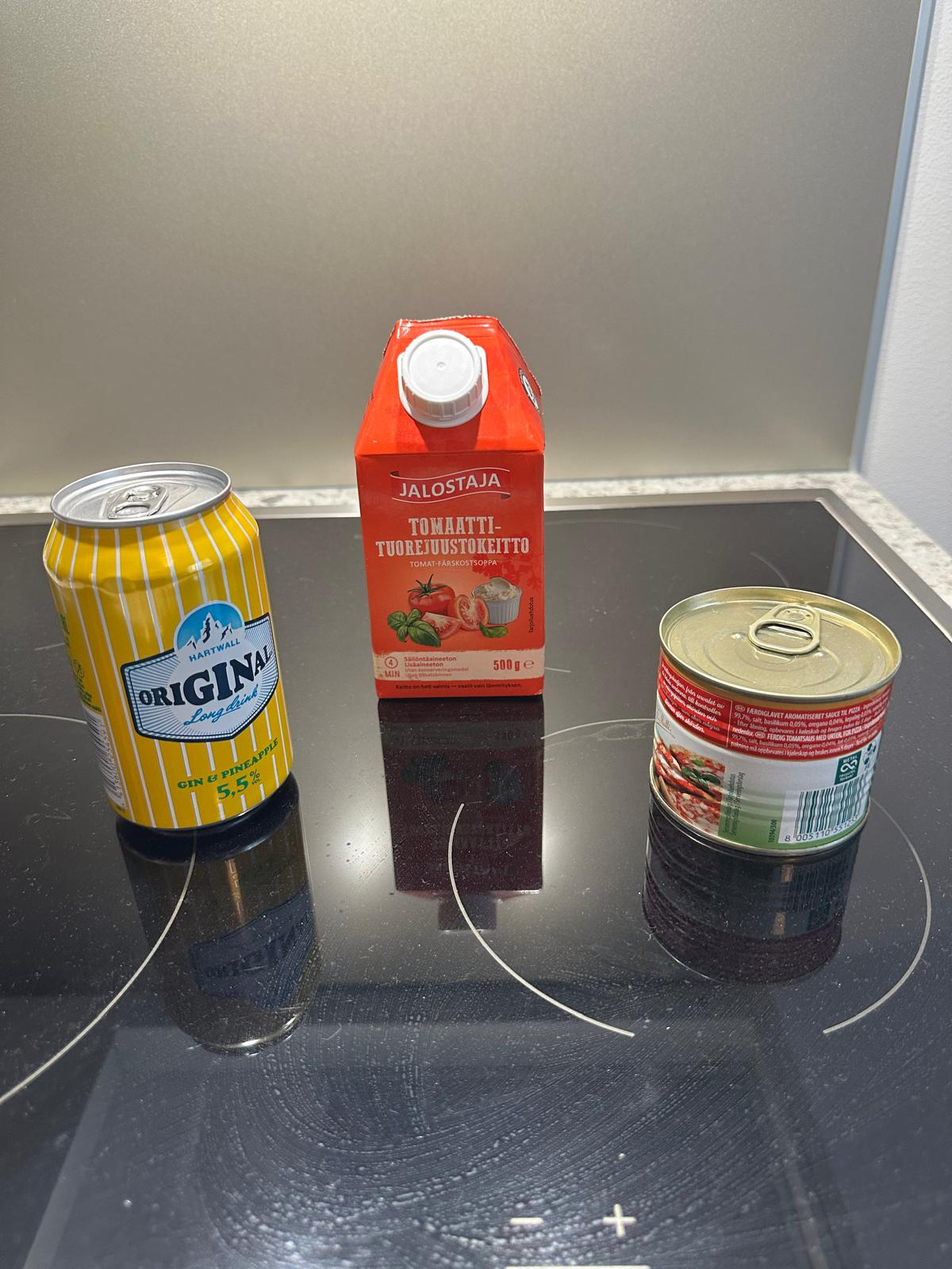Dryckeskartong: (354, 315, 545, 698)
Konservburk: (647, 586, 902, 857)
Pantburk: (42, 460, 294, 832)
